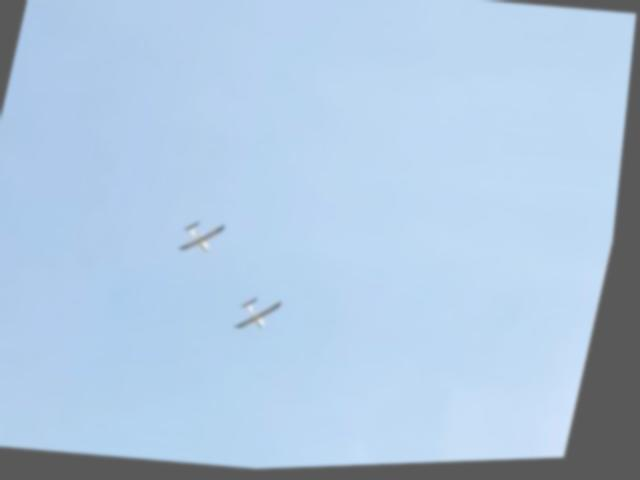uav: (240, 297, 292, 338), (181, 219, 233, 259)
